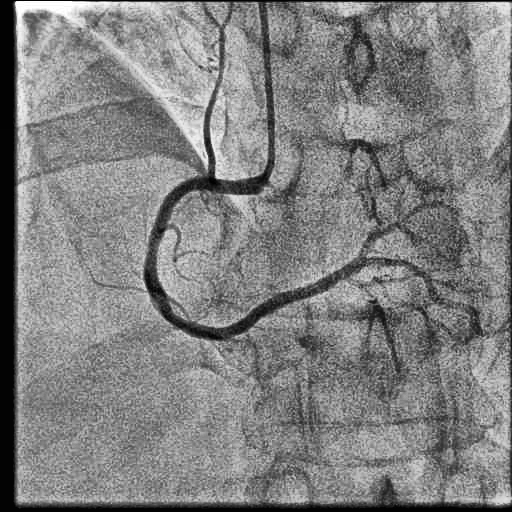pborca: (360, 200, 457, 256)
pda: (367, 257, 483, 335)
rca: (144, 176, 367, 340)
